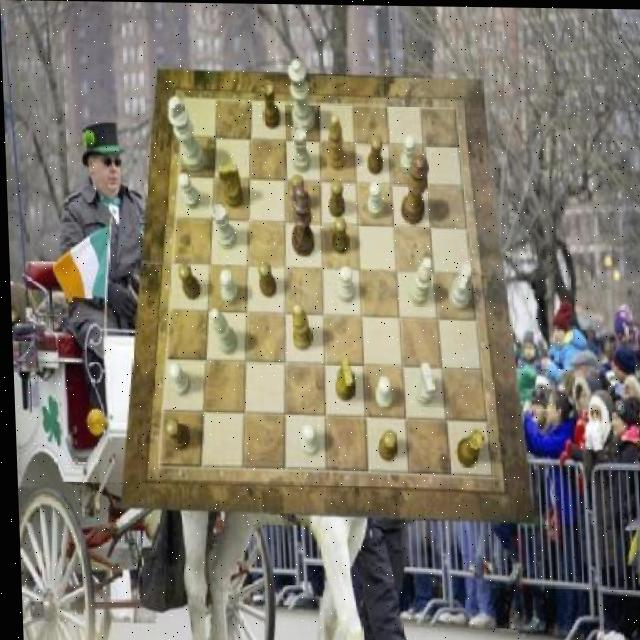bishop: (325, 113, 344, 169), (289, 303, 311, 350)
black-bishop: (288, 182, 313, 256)
black-king: (217, 161, 242, 206), (332, 357, 354, 400)
black-knight: (177, 263, 199, 300), (163, 419, 188, 451), (289, 174, 308, 211), (327, 179, 345, 215), (255, 262, 274, 296), (331, 216, 348, 254), (365, 135, 382, 173), (376, 429, 394, 460)
black-pawn: (397, 154, 429, 225)
black-queen: (451, 428, 482, 466), (261, 80, 280, 128)
black-rook: (209, 307, 236, 353), (407, 257, 432, 305)
white-bishop: (167, 96, 205, 171)
white-king: (446, 262, 470, 308), (409, 360, 433, 403)
white-knight: (177, 173, 201, 208), (166, 362, 189, 396), (335, 266, 354, 303), (399, 134, 416, 173), (218, 269, 237, 303), (297, 422, 315, 456), (373, 375, 391, 409), (365, 181, 382, 217)
white-pawn: (288, 59, 315, 133)
white-queen: (211, 204, 236, 249), (290, 125, 310, 170)
